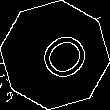O_SW: (21, 22, 89, 88)
